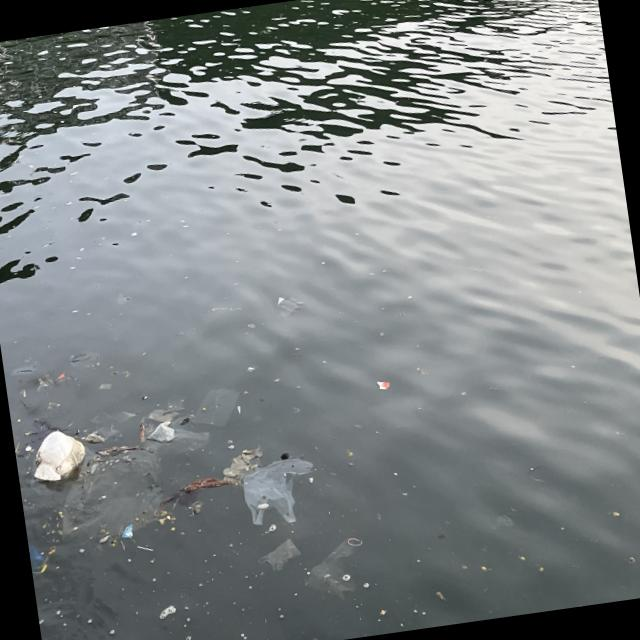foam: (28, 429, 90, 486)
plastic bag: (235, 452, 316, 531)
